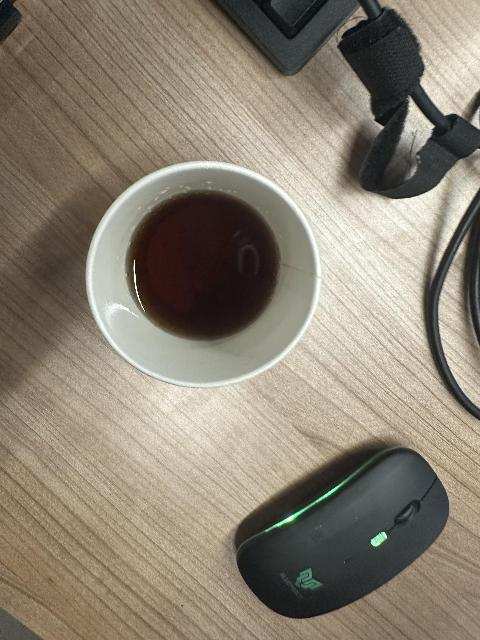Kagit: (84, 157, 324, 392)
